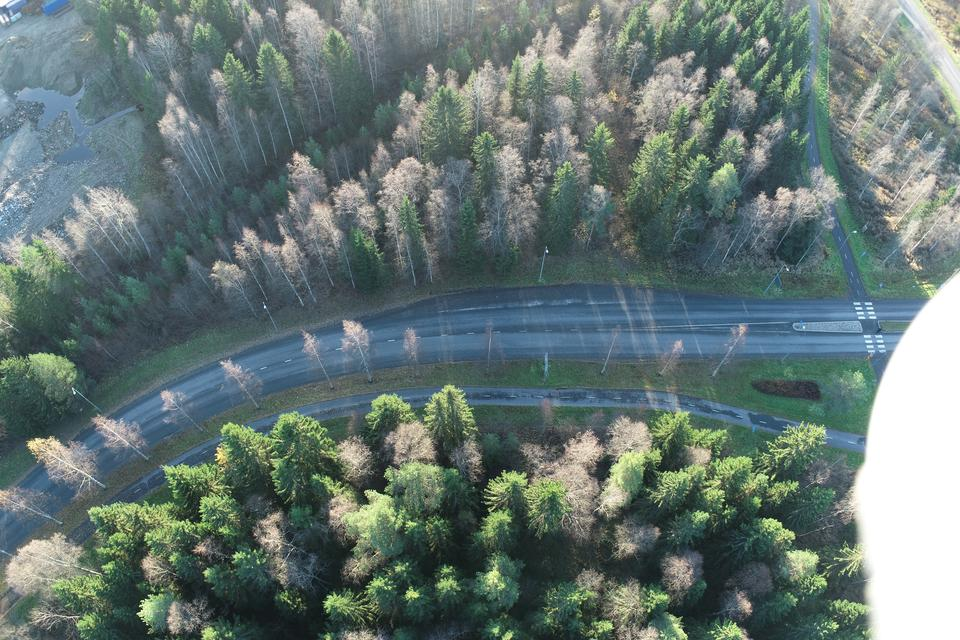intersection: (840, 287, 899, 363)
